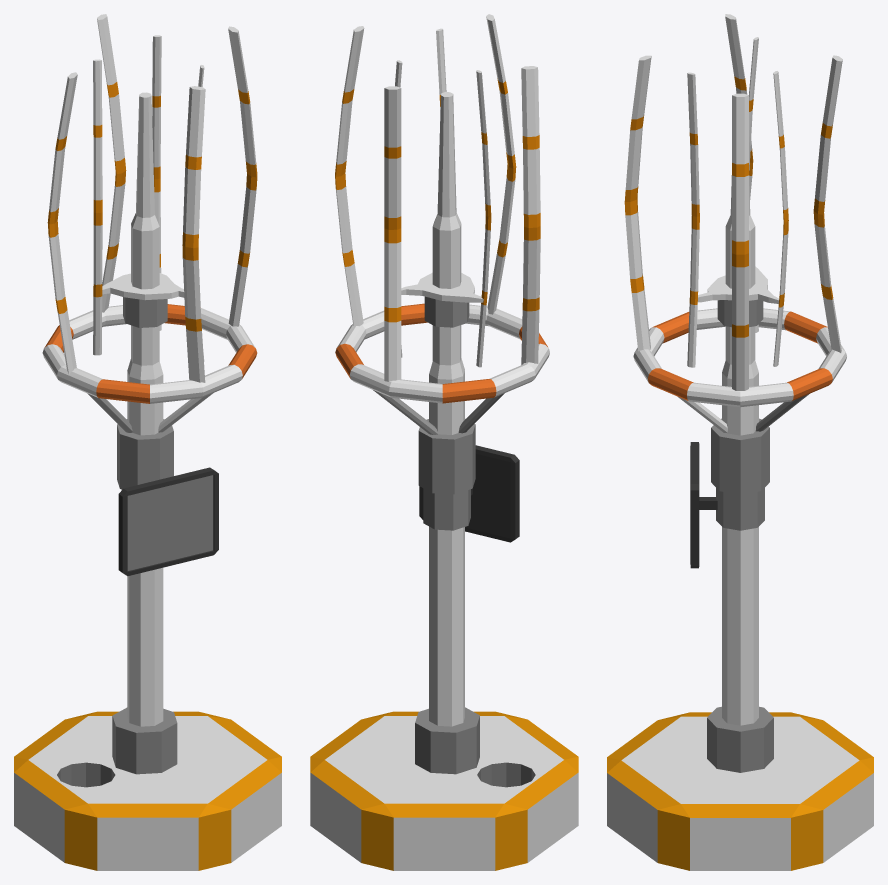
Rendered from WindTurbine.fbx.
3 views of the same model, side by side, from view 1: azimuth 30°, elevation 25°; view 2: azimuth 150°, elevation 25°; view 3: azimuth 270°, elevation 25° (orthographic).
Parts seen in each view (by area): view 1: Cylinder.001; view 2: Cylinder.001; view 3: Cylinder.001.
Boxes of the visible parts, <box> form: Cylinder.001: <box>14,14,281,870</box>; Cylinder.001: <box>310,14,578,870</box>; Cylinder.001: <box>607,14,873,870</box>.
Size of the model in its own units: 282 by 959 by 301.
